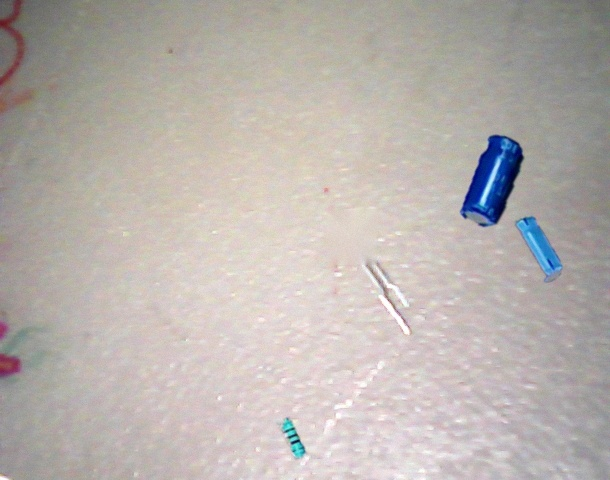capacitor: (460, 134, 524, 227), (515, 216, 563, 282)
resistor: (277, 417, 307, 460)
